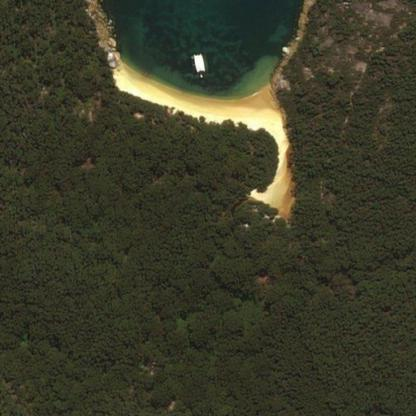ship: (26, 44, 38, 47)
